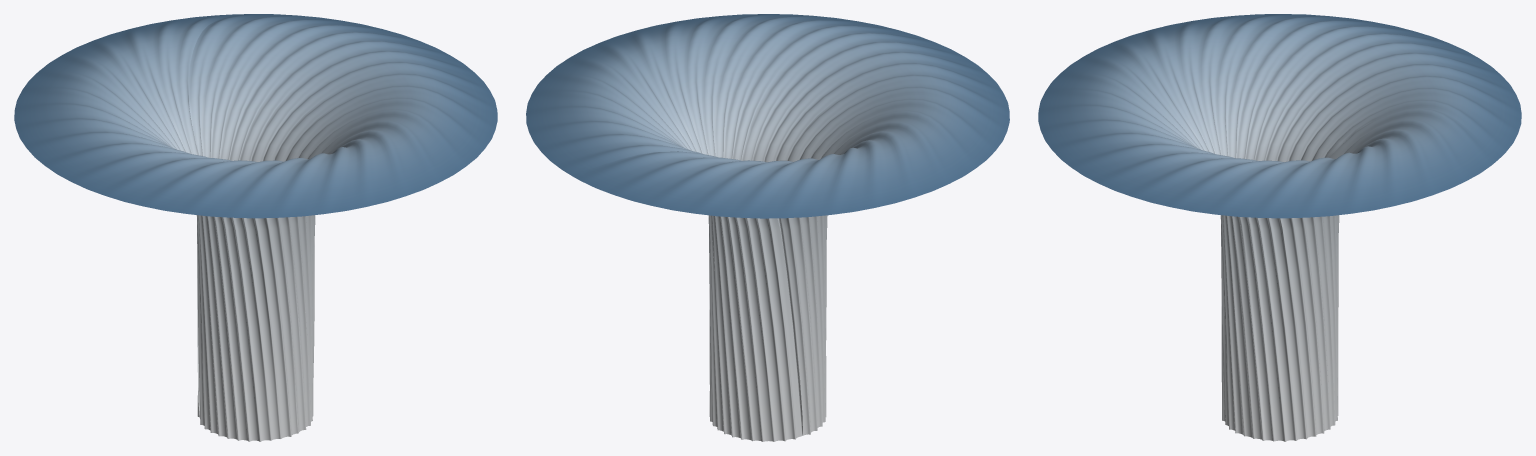
Rendered from vortex2.glb.
3 views of the same model, side by side, from view 1: azimuth 30°, elevation 25°; view 2: azimuth 150°, elevation 25°; view 3: azimuth 270°, elevation 25° (orthographic).
Parts seen in each view (by area): view 1: water_vortex2; view 2: water_vortex2; view 3: water_vortex2.
Part boxes in pixels (x1,y1,x2,y2): water_vortex2: [14, 14, 497, 441]; water_vortex2: [526, 14, 1009, 441]; water_vortex2: [1038, 14, 1521, 441].
Bounding box in the file's own units: 13.19 × 9.67 × 13.18.
1 material, 1 textured.
